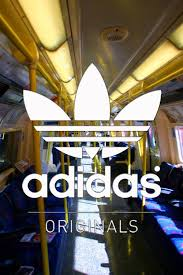adidas: (21, 64, 162, 198)
